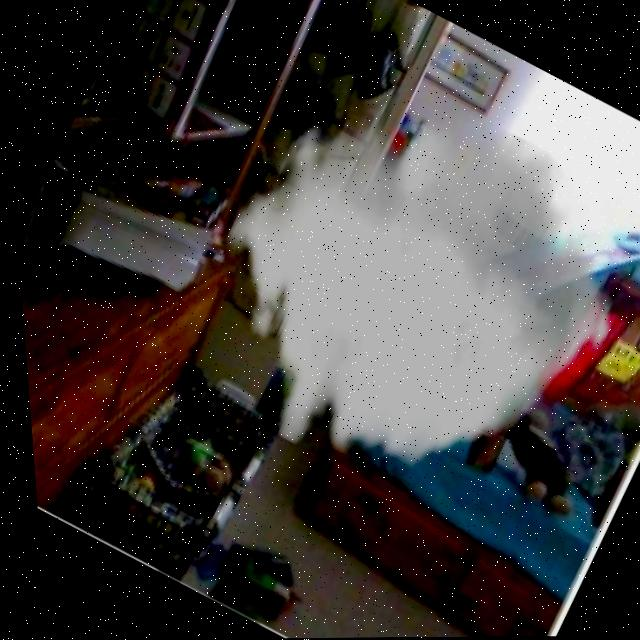Smoke: (153, 34, 640, 555)
